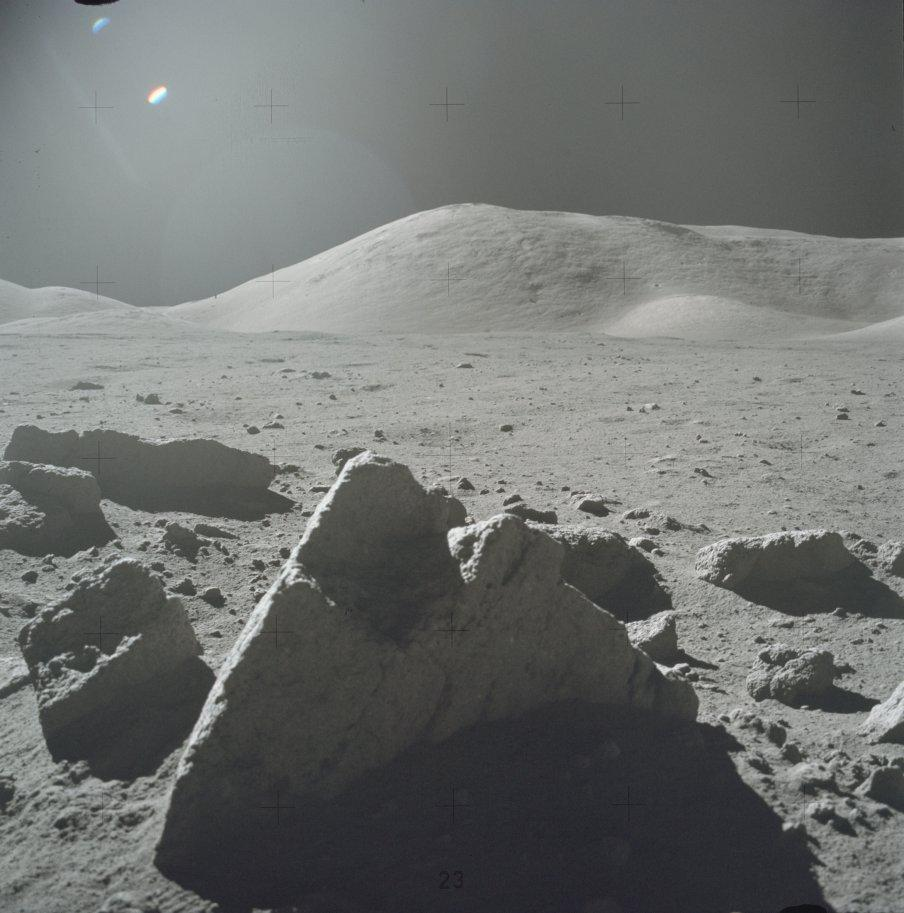rock: (157, 453, 697, 891), (18, 558, 214, 777), (5, 424, 292, 520), (0, 460, 112, 555), (697, 530, 856, 590)
